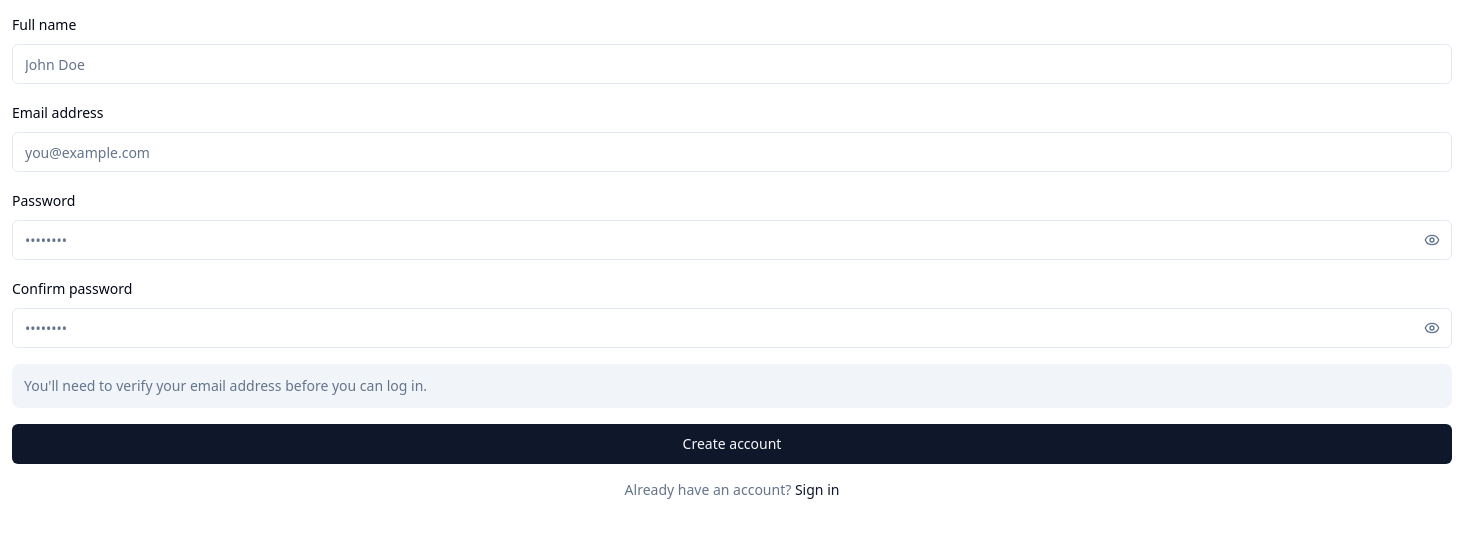
Test: RegisterForm › Validation › should show error when display name is empty
Step 1. Click the button "Create account" → (732, 444), box 12,424 -> 1452,464
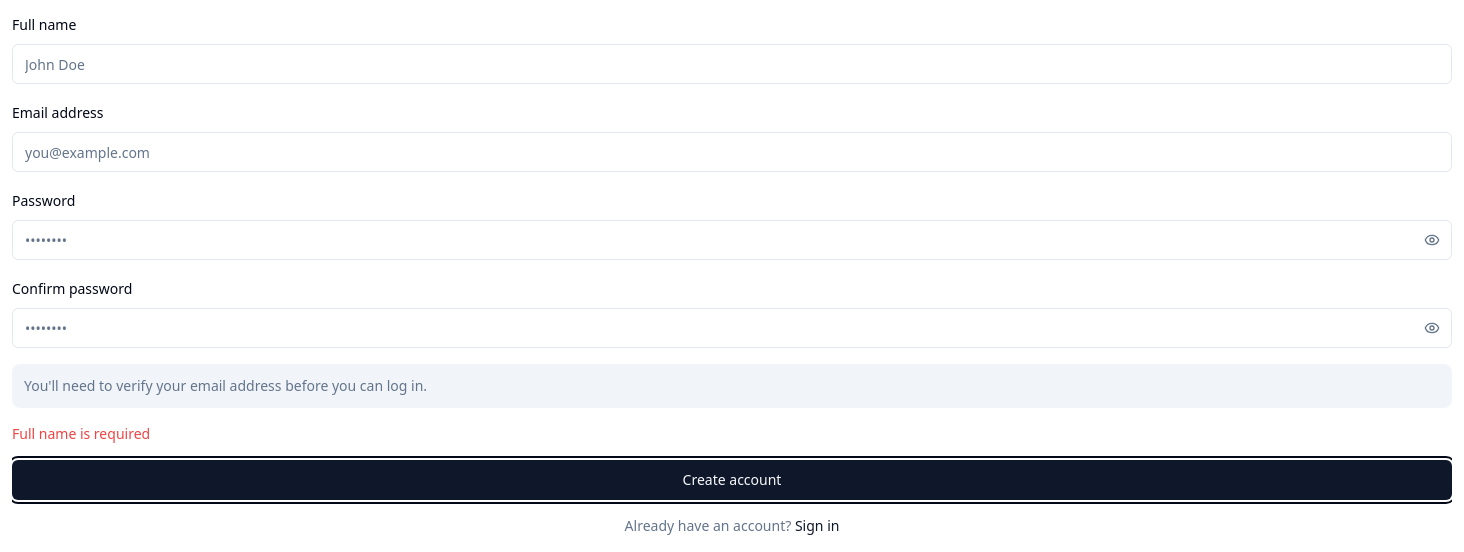
Now the text "Full name is required" is shown, box 12,424 -> 150,443
